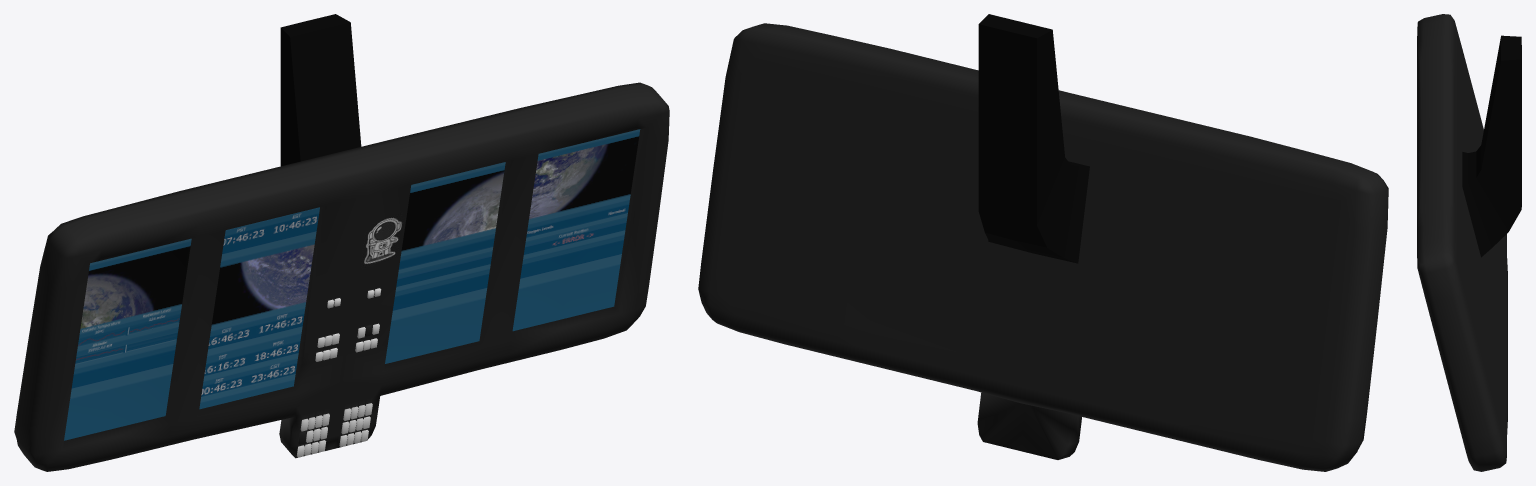
The model's file is SpaceXMonitor.fbx.
The picture shows the model from 3 angles, left to right: view 1: azimuth 30°, elevation 25°; view 2: azimuth 150°, elevation 25°; view 3: azimuth 270°, elevation 25°; orthographic projection. The views are drawn at different scales.
Parts seen in each view (by area): view 1: SpaceXMonitor; view 2: SpaceXMonitor; view 3: SpaceXMonitor.
Boxes of the visible parts, x1,y1,x2,y2 form: SpaceXMonitor: (14, 14, 669, 471); SpaceXMonitor: (698, 14, 1388, 471); SpaceXMonitor: (1417, 14, 1521, 471).
Bounding box in the file's own units: 0.1398 × 0.0889 × 0.0243.
